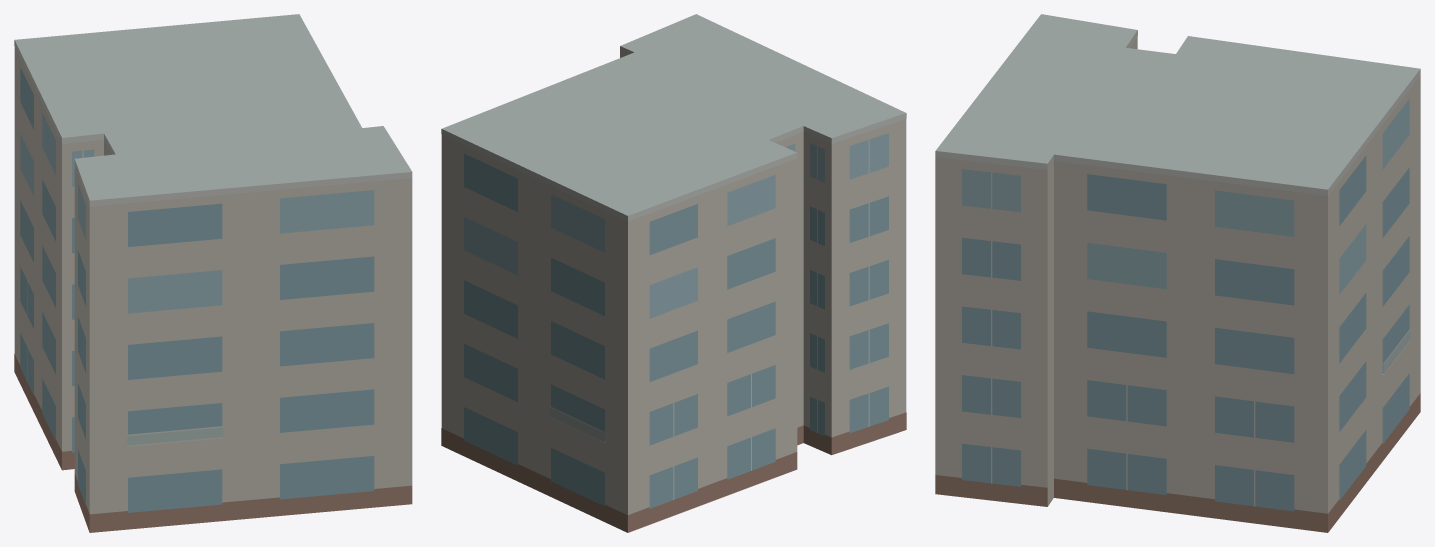
Rendered from survey-upis-32980704.glb.
The picture shows the model from 3 angles, left to right: view 1: azimuth 30°, elevation 25°; view 2: azimuth 150°, elevation 25°; view 3: azimuth 270°, elevation 25°; orthographic projection. The views are drawn at different scales.
Parts seen in each view (by area): view 1: survey-upis-32980704.tmp; view 2: survey-upis-32980704.tmp; view 3: survey-upis-32980704.tmp.
Boxes of the visible parts, x1,y1,x2,y2 form: survey-upis-32980704.tmp: [14, 14, 412, 532]; survey-upis-32980704.tmp: [441, 14, 906, 532]; survey-upis-32980704.tmp: [935, 14, 1420, 532].
Bounding box in the file's own units: 14.88 × 13.55 × 17.37.
